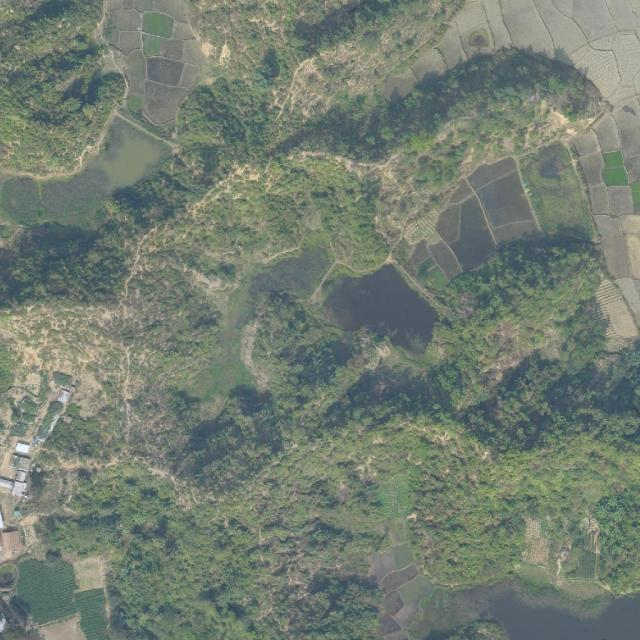agricultural_land: (0, 102, 182, 253), (415, 149, 552, 278), (515, 139, 598, 253), (367, 531, 440, 640), (12, 553, 81, 627), (425, 235, 466, 281), (411, 255, 453, 297), (376, 68, 421, 105), (408, 45, 449, 84), (73, 554, 110, 592), (38, 616, 86, 640), (405, 237, 435, 267), (6, 593, 34, 620), (0, 564, 18, 588)
building: (0, 525, 21, 555), (11, 470, 28, 496), (10, 453, 32, 473), (58, 388, 72, 404), (15, 441, 29, 453), (0, 478, 14, 489)
greenland: (424, 620, 508, 639), (387, 237, 416, 268)
